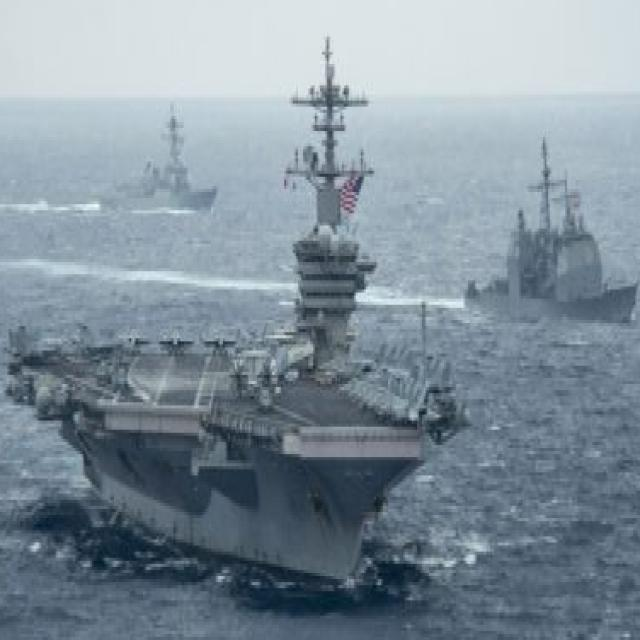navalvessels: (23, 132, 457, 568), (470, 155, 640, 314), (140, 98, 236, 208)
